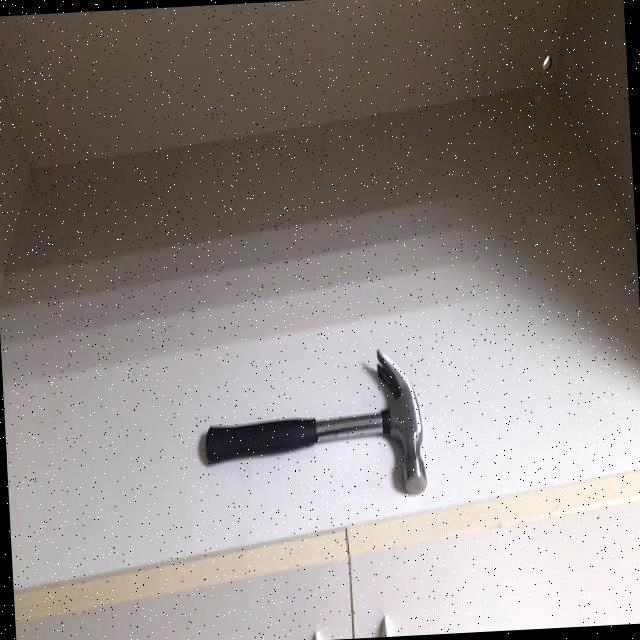hammer: (204, 355, 426, 499)
